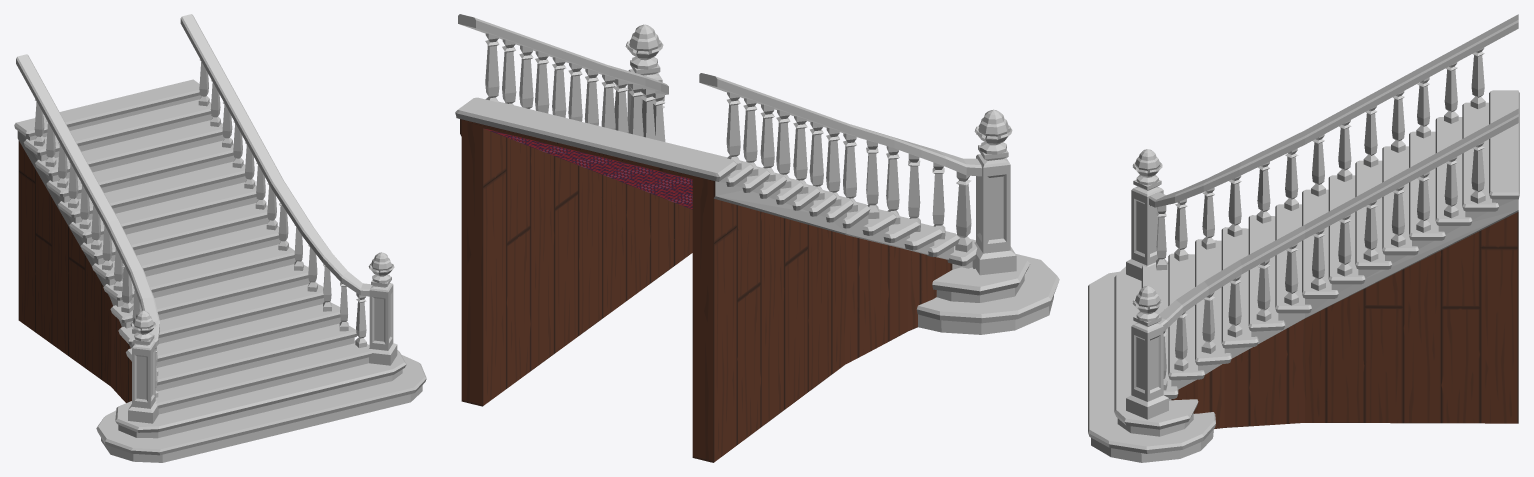
The model's file is SM_Bld_Base_Stairs_Ornate_01.fbx.
The picture shows the model from 3 angles, left to right: view 1: azimuth 30°, elevation 25°; view 2: azimuth 150°, elevation 25°; view 3: azimuth 270°, elevation 25°; orthographic projection. The views are drawn at different scales.
Parts seen in each view (by area): view 1: SM_Bld_Base_Stairs_Ornate_01; view 2: SM_Bld_Base_Stairs_Ornate_01; view 3: SM_Bld_Base_Stairs_Ornate_01.
Part boxes in pixels (x1=…): SM_Bld_Base_Stairs_Ornate_01: x1=14, y1=14, x2=426, y2=462; SM_Bld_Base_Stairs_Ornate_01: x1=455, y1=14, x2=1059, y2=462; SM_Bld_Base_Stairs_Ornate_01: x1=1088, y1=14, x2=1519, y2=462.
Bounding box in the file's own units: 501 × 400 × 505.
